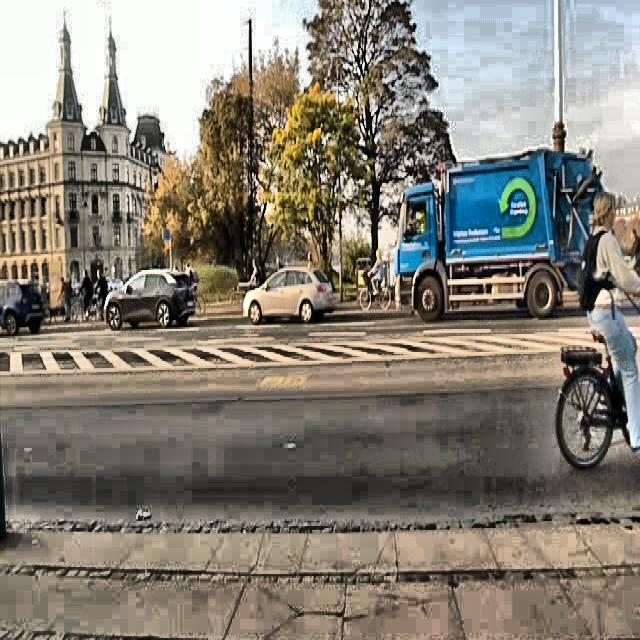ladcykel: (555, 281, 640, 476)
